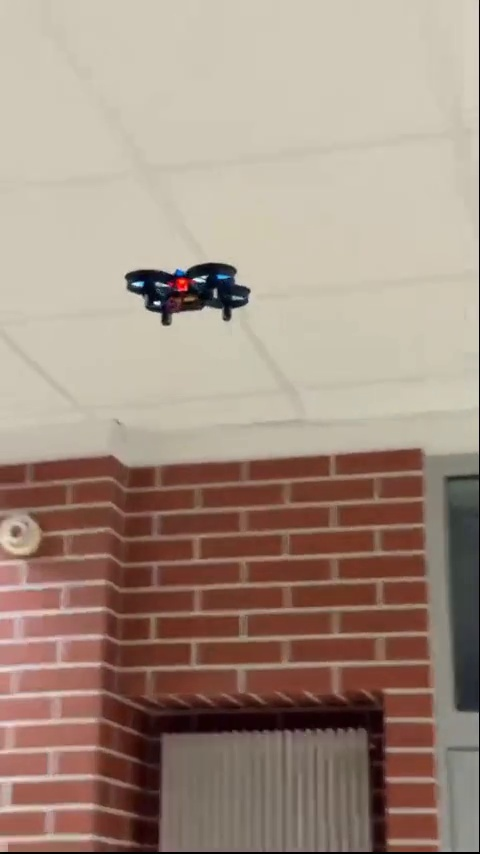drone: (125, 262, 260, 326)
